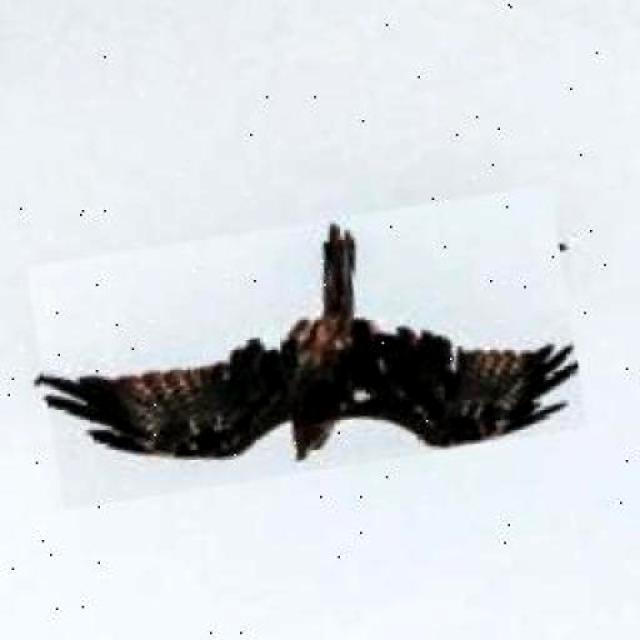airplane: (26, 184, 588, 510)
